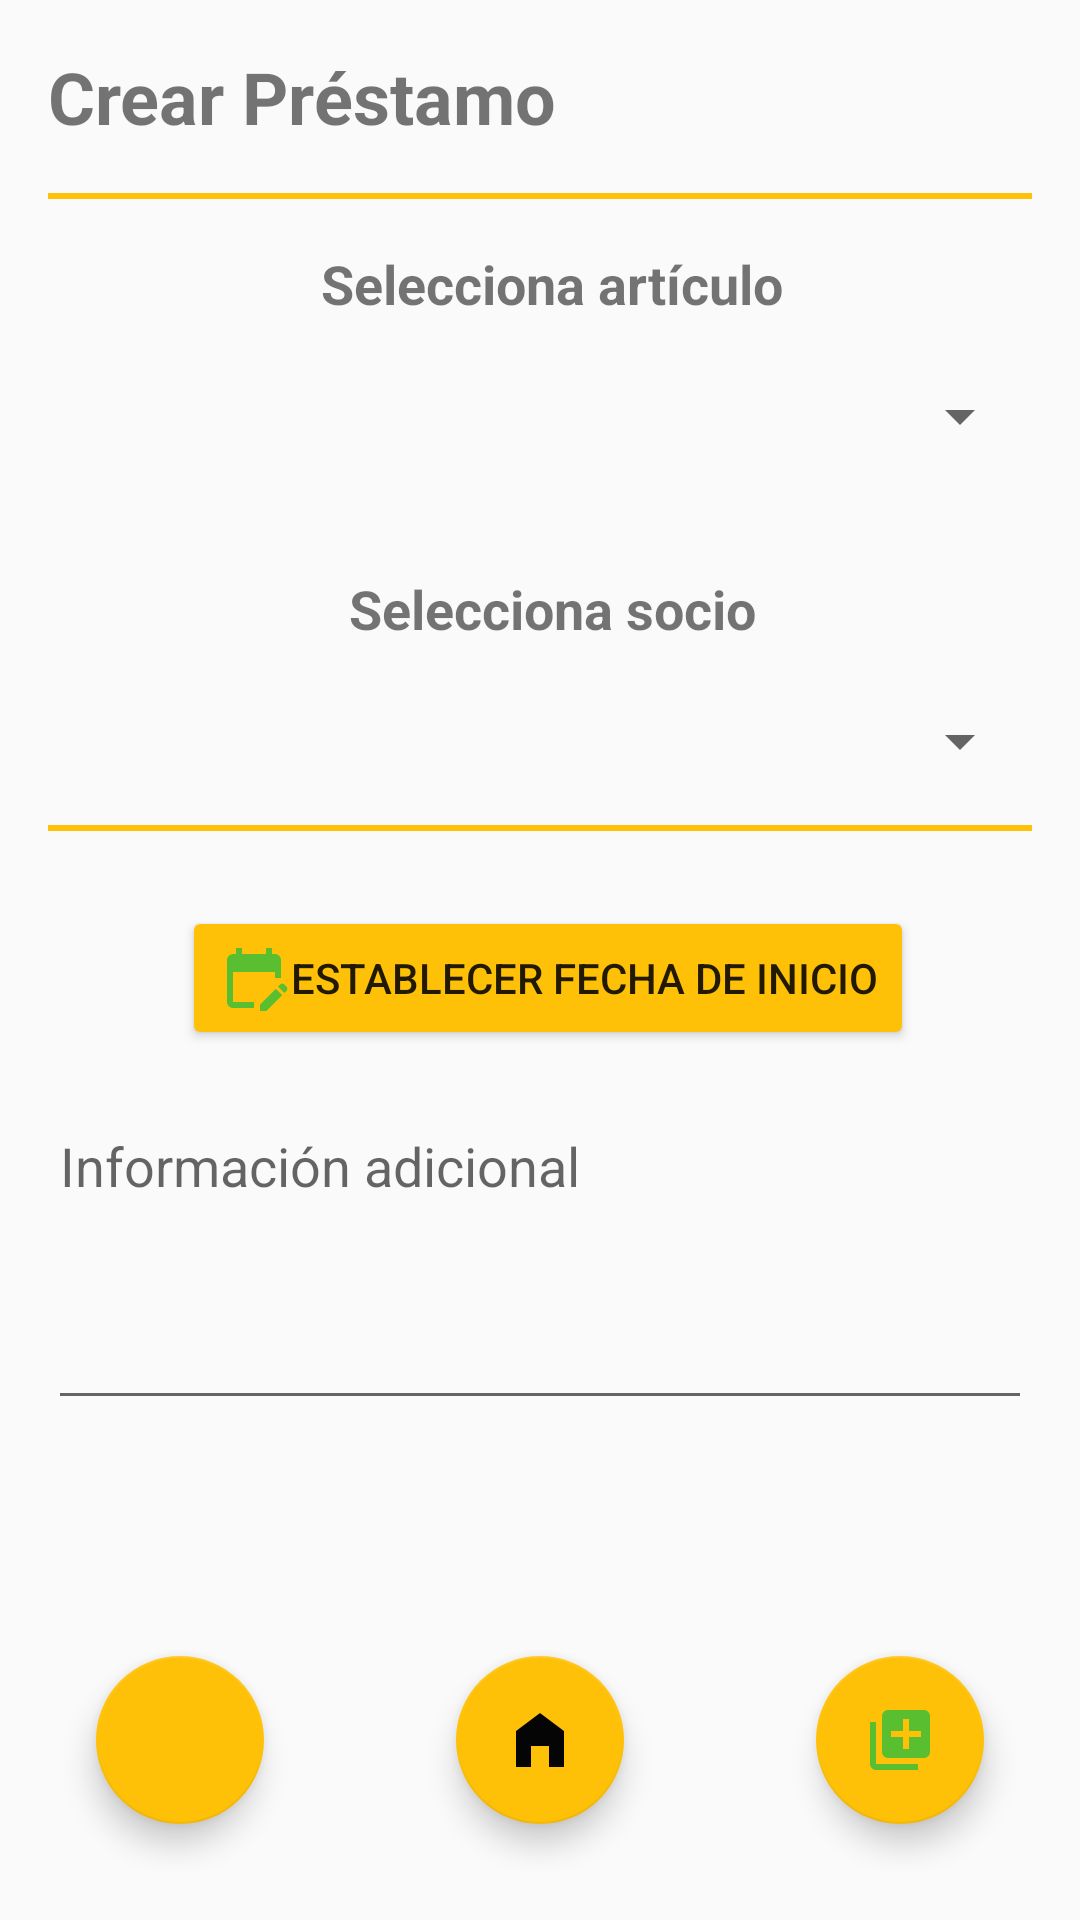

Where to tap for icons on this 1080×1920 app screen, as (x=x, y=y):
home: (x=540, y=1740)
